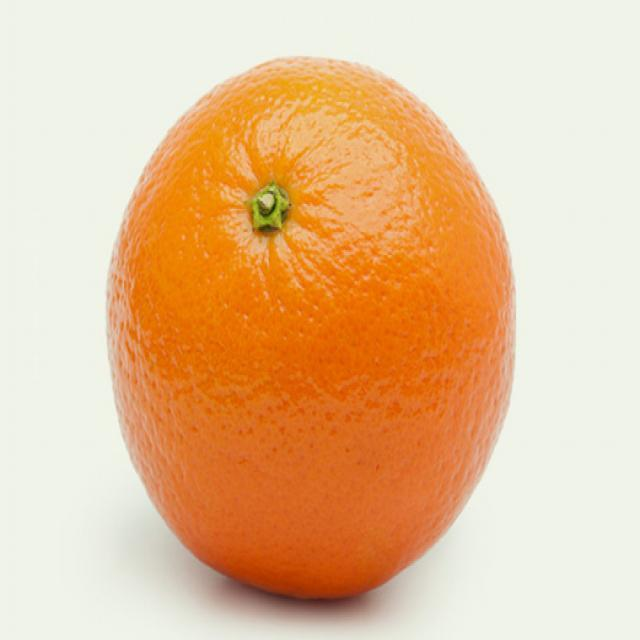Orange: (104, 50, 516, 603)
